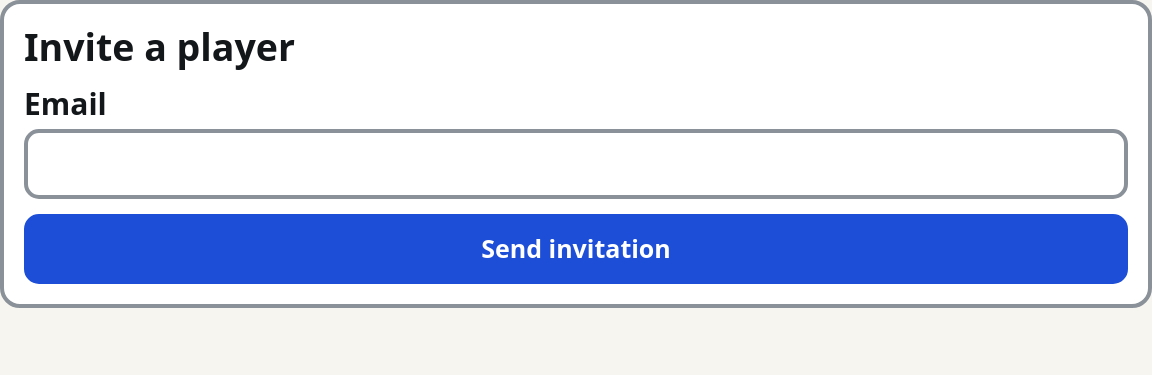
Scenario: admin panels › reports an invitation that failed without a message
Type "pat@example.com" into the field labelled "Email".
click(576, 164); type("pat@example.com")  # box [24,129,1128,199]
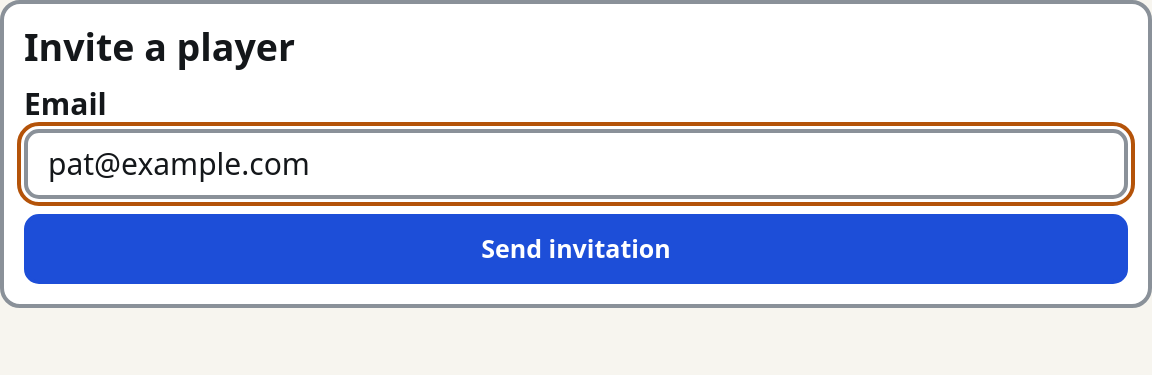
Click the button "Send invitation".
click(576, 249)  # box [24,214,1128,284]
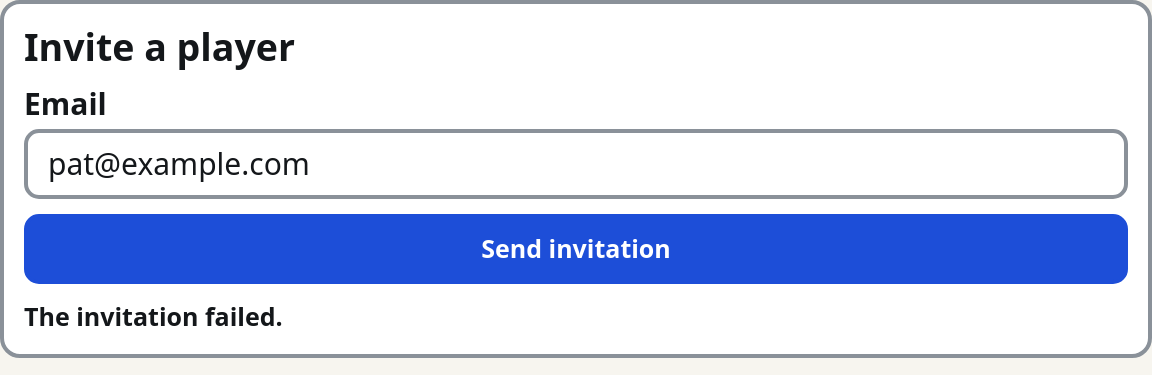
Expected: the message reads "The invitation failed.", [24,299,283,333]
